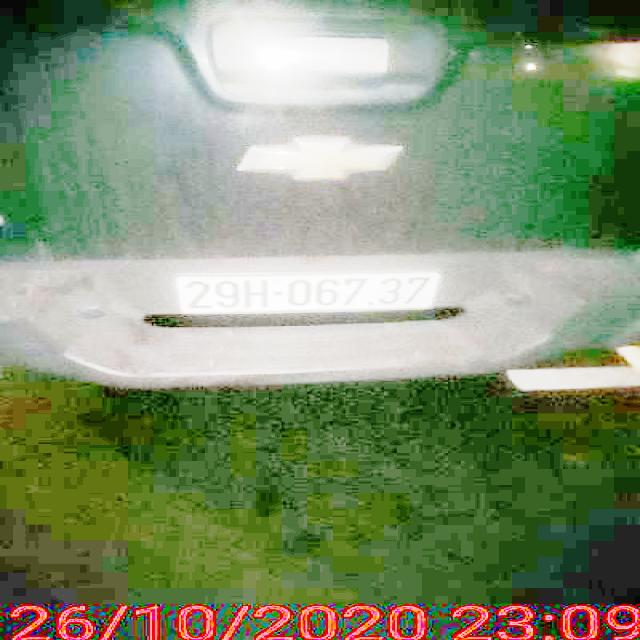license_plate: (176, 274, 443, 313)
